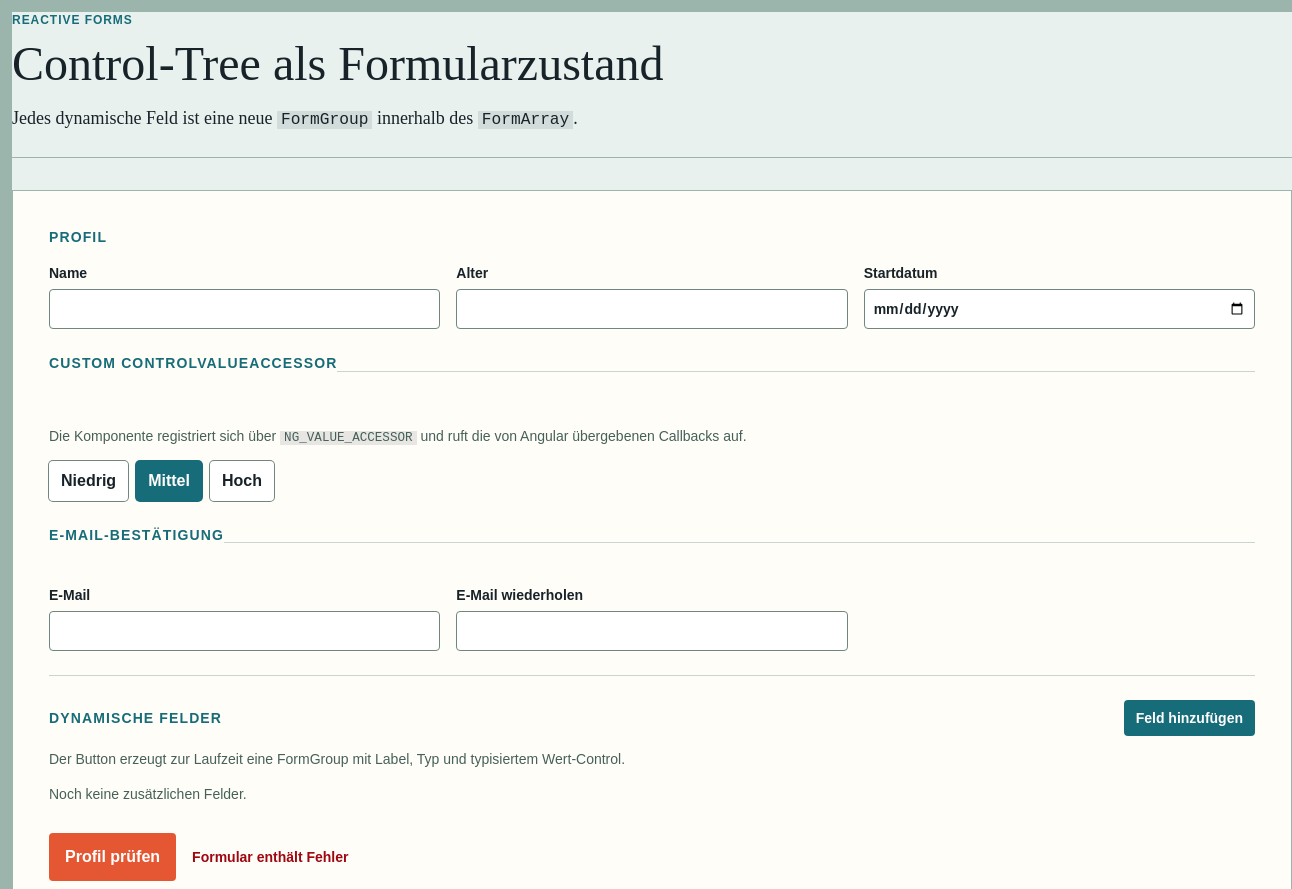
Scenario: ReactiveFormsDemoComponent › adds a dynamic form group
Click the button with class "secondary-button". click: point(1189, 718)
box: 1124,700 -> 1255,736
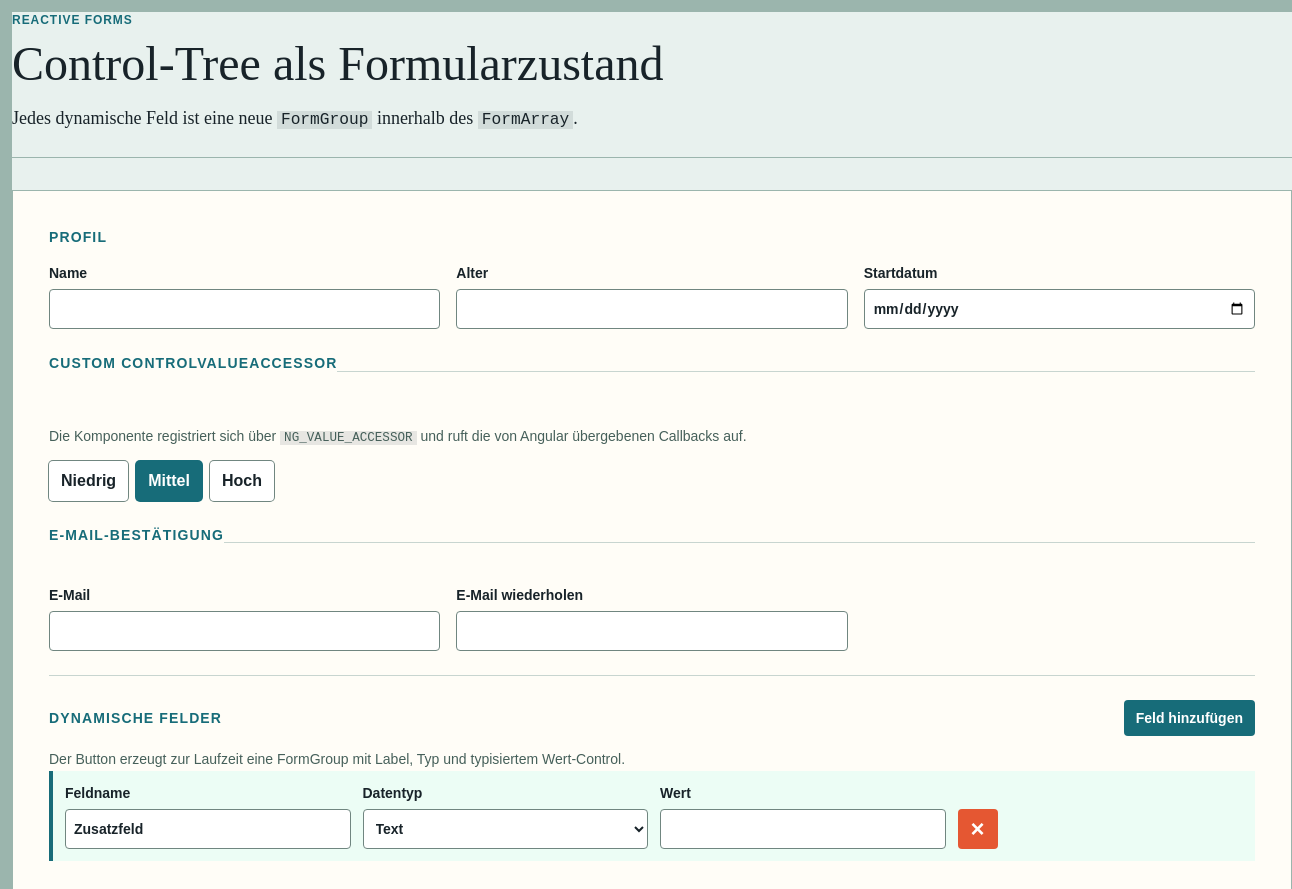
Result: the number of elements with class "dynamic-row" is 1 at 49,770 -> 1255,860
